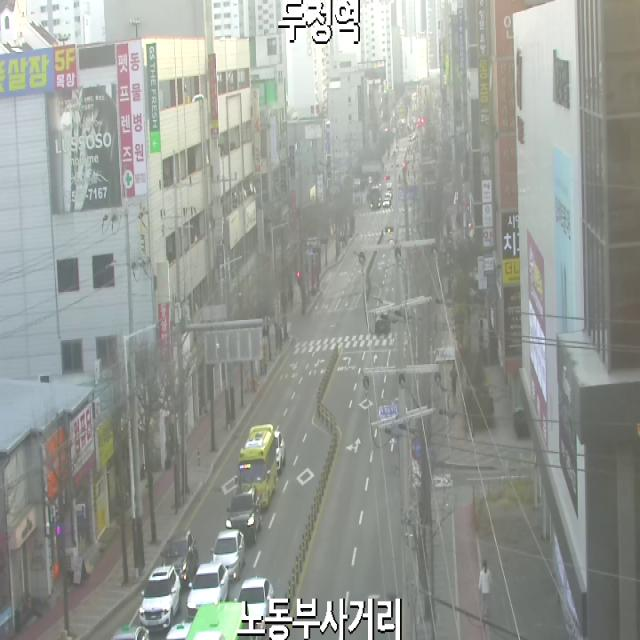Bus: (238, 424, 274, 507), (185, 602, 247, 640), (369, 182, 382, 210)
Car: (140, 566, 180, 629), (225, 486, 262, 543), (188, 564, 228, 614), (160, 531, 199, 580), (234, 578, 274, 625), (211, 530, 246, 580), (110, 625, 149, 640), (275, 429, 285, 476), (375, 314, 390, 336), (382, 198, 391, 208), (384, 190, 392, 198), (387, 182, 392, 190)
